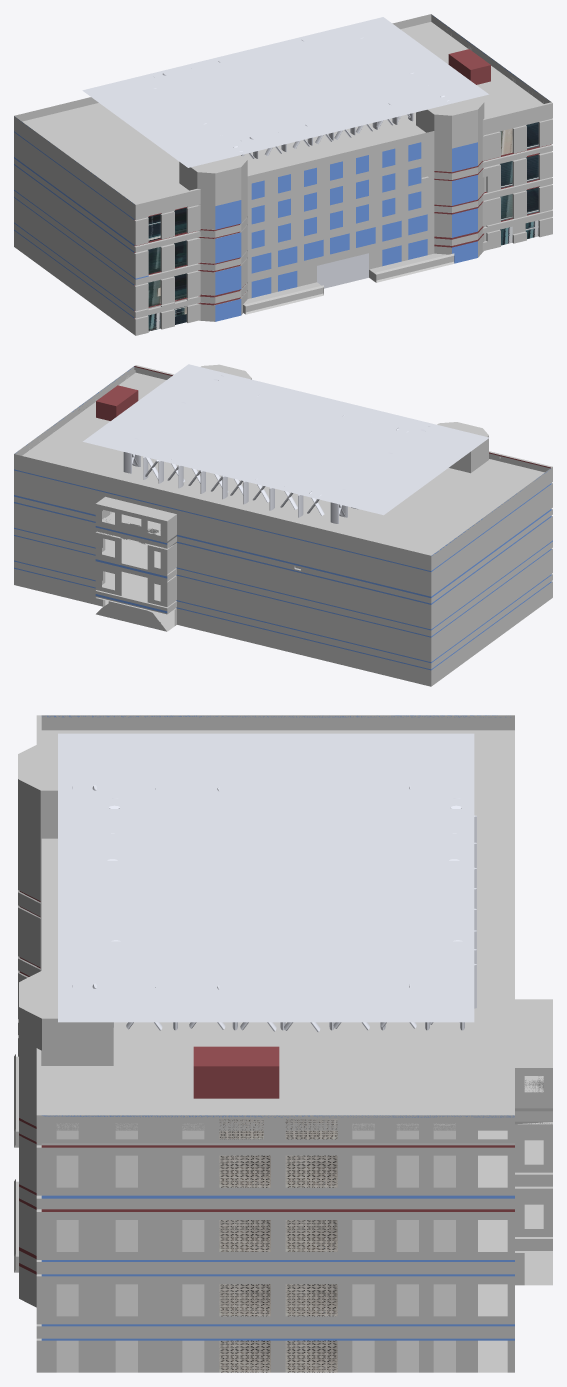
File: Gargi final1.glb
3 renders of one model, top to bottom at view 1: azimuth 30°, elevation 25°; view 2: azimuth 150°, elevation 25°; view 3: azimuth 270°, elevation 25°, orthographic. The views are drawn at different scales.
Parts seen in each view (by area): view 1: Cube.002; view 2: Cube.002; view 3: Cube.002.
Boxes of the visible parts, <box> form: Cube.002: <box>14,14,552,335</box>; Cube.002: <box>14,364,552,686</box>; Cube.002: <box>14,715,552,1372</box>.
Size of the model in its own units: 100 by 34.8 by 56.94.
13 materials, 2 textured.
